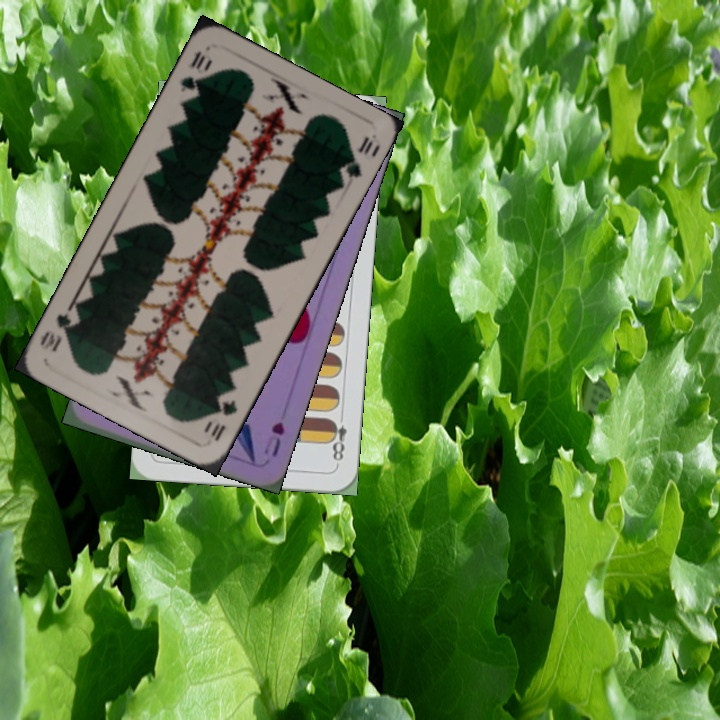E8: (325, 409, 349, 468)
G10: (176, 46, 215, 95), (207, 395, 240, 444)
HU: (260, 418, 288, 459)
